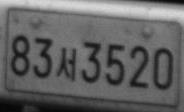0: (152, 47, 173, 90)
2: (129, 45, 149, 88)
3: (32, 37, 53, 78), (81, 41, 101, 84)
5: (105, 43, 125, 86)
8: (10, 34, 30, 76)
서: (56, 47, 77, 82)
